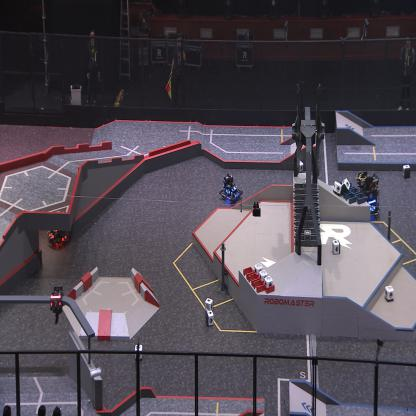car: (356, 169, 380, 219), (47, 208, 69, 249), (220, 172, 243, 205)
